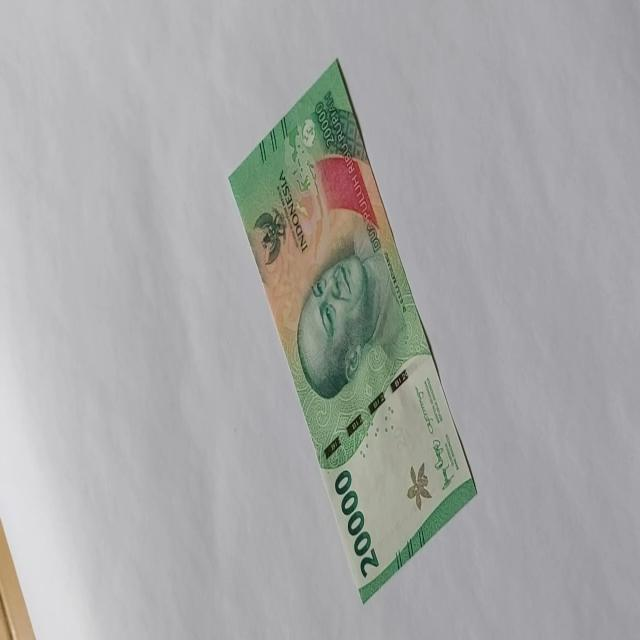dua puluh ribu rupiah: (227, 56, 478, 604), (294, 242, 406, 402)
